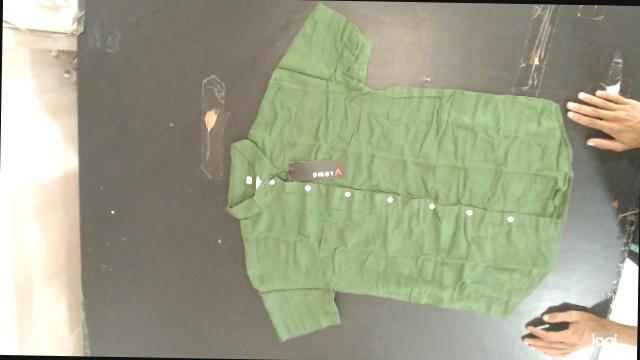new-garment: (227, 3, 572, 340)
